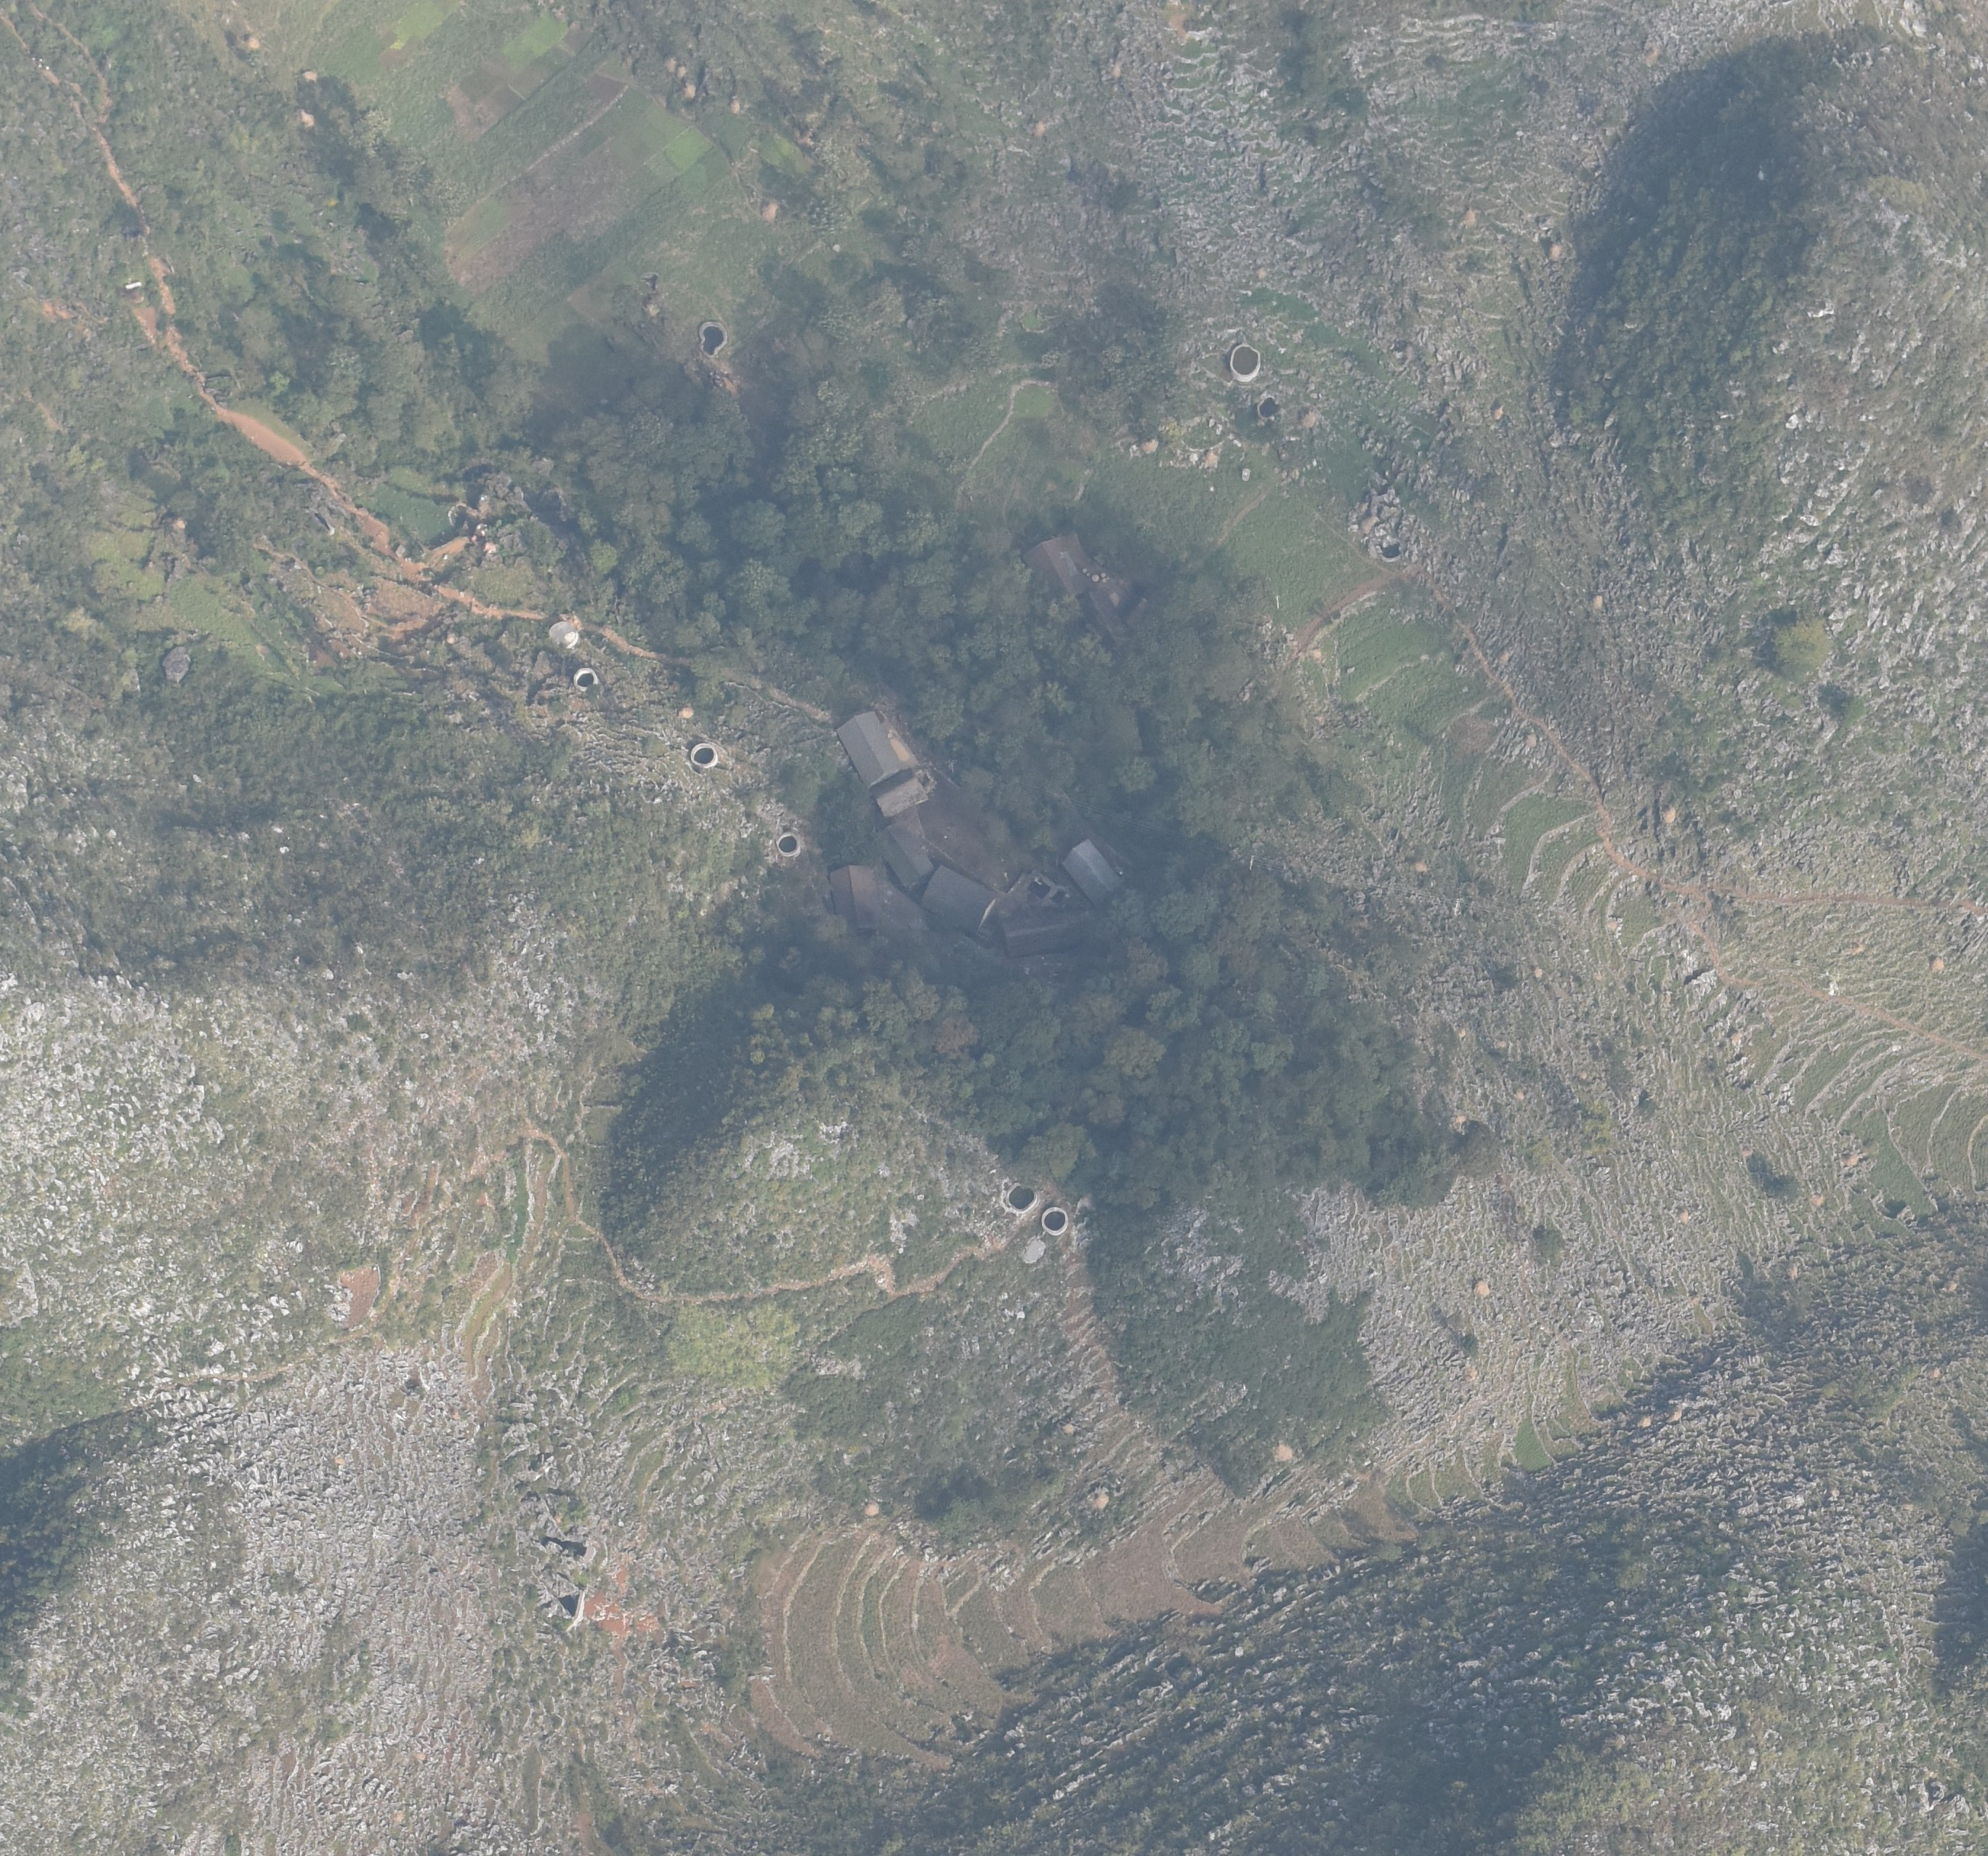building: (835, 709, 902, 793), (921, 866, 997, 932), (1001, 907, 1095, 956), (1023, 536, 1086, 602), (1063, 837, 1120, 907), (874, 820, 933, 887), (828, 864, 879, 934), (1001, 917, 1085, 957), (1080, 586, 1120, 643), (874, 776, 928, 817), (1274, 594, 1280, 608)
cable-tower: (1453, 900, 1460, 916), (1248, 855, 1255, 871)
well: (692, 317, 731, 356), (1229, 344, 1264, 382), (687, 741, 723, 773), (1006, 1178, 1038, 1213), (1040, 1203, 1072, 1237), (549, 621, 579, 650), (1373, 537, 1405, 564), (774, 830, 804, 859), (573, 664, 601, 695), (1256, 394, 1282, 421)
